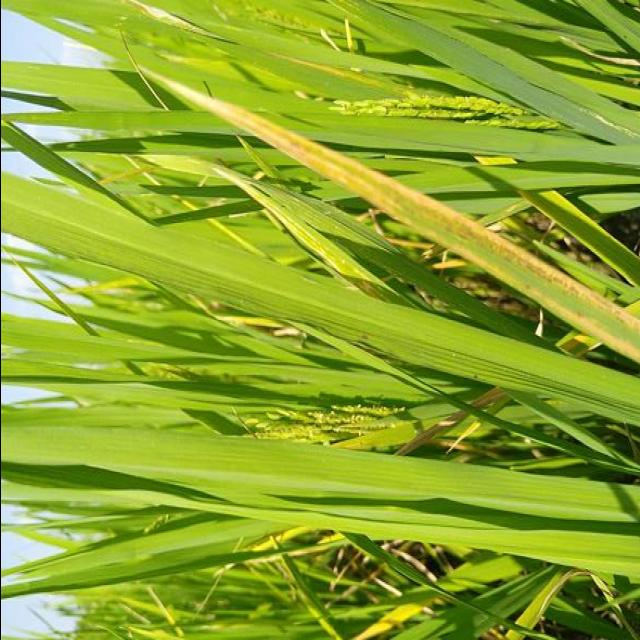Leaf Blight: (162, 77, 640, 365)
